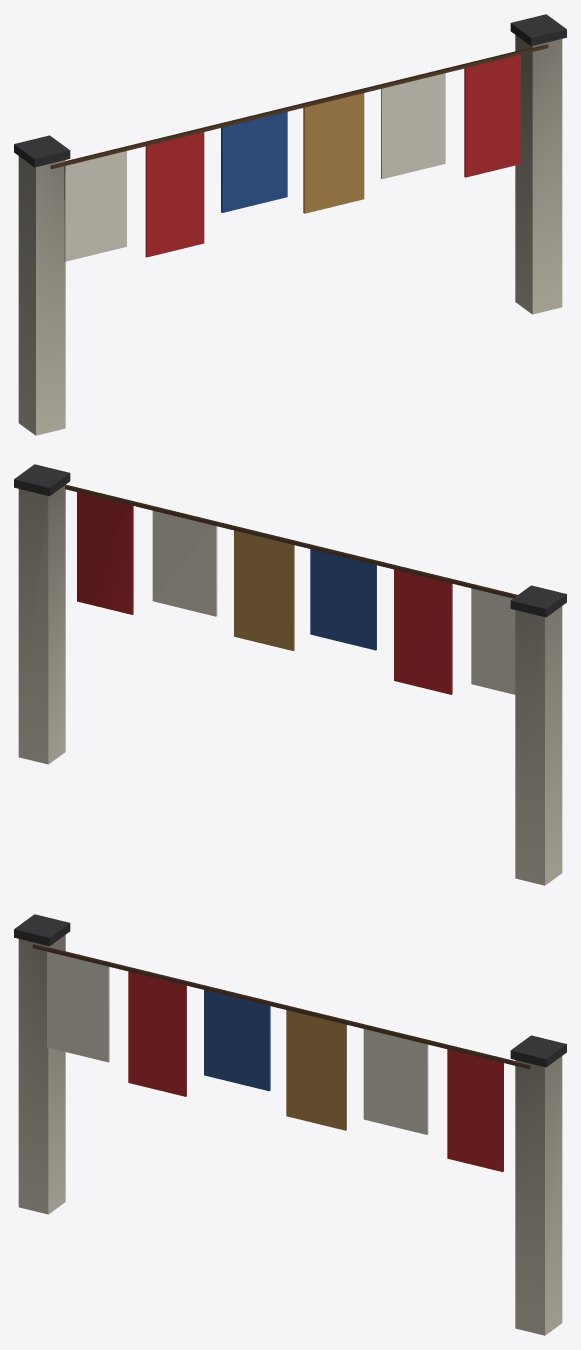
Rendered from rome_laundry.glb.
3 views of the same model, one above another, from view 1: azimuth 30°, elevation 25°; view 2: azimuth 150°, elevation 25°; view 3: azimuth 330°, elevation 25° (orthographic).
Visible parts, largest first — view 1: rome_laundry; view 2: rome_laundry; view 3: rome_laundry.
Boxes of the visible parts, x1,y1,x2,y2 form: rome_laundry: [14, 14, 566, 435]; rome_laundry: [14, 464, 566, 885]; rome_laundry: [14, 914, 566, 1335].
Size of the model in its own units: 5.36 by 2.68 by 0.36.
